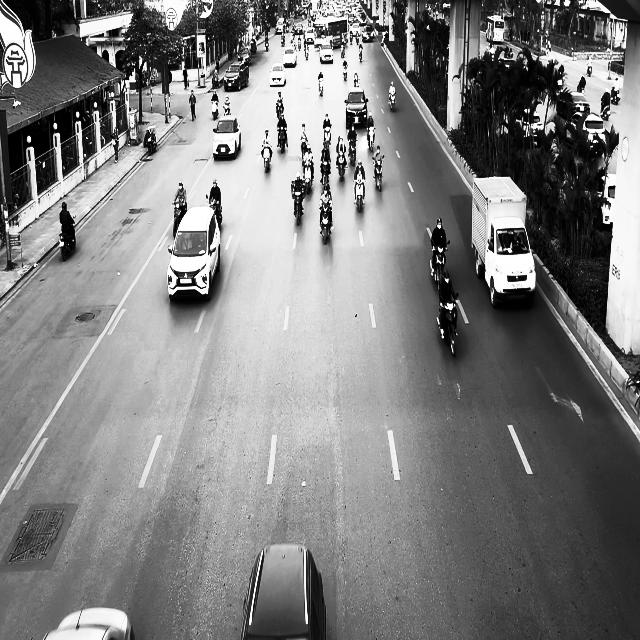bus: (486, 15, 504, 43)
car: (240, 543, 326, 639), (167, 204, 220, 301), (43, 607, 135, 639), (212, 116, 241, 160), (344, 87, 368, 129), (224, 61, 248, 91), (270, 63, 286, 86), (319, 42, 334, 63), (282, 46, 296, 67), (238, 46, 252, 65)
motorbike: (436, 293, 459, 357), (430, 240, 450, 287), (59, 215, 76, 261), (291, 182, 305, 226), (172, 200, 187, 239), (205, 194, 222, 227), (318, 205, 332, 244), (353, 178, 365, 212), (302, 159, 314, 193), (373, 157, 383, 191), (261, 145, 272, 173), (336, 150, 346, 179), (146, 126, 156, 155), (320, 160, 330, 188), (348, 136, 357, 166), (277, 125, 286, 153), (600, 96, 610, 120), (366, 126, 374, 151), (300, 136, 308, 160), (324, 125, 332, 148), (211, 98, 219, 119), (388, 92, 396, 112), (318, 76, 324, 96), (342, 60, 348, 80), (358, 44, 363, 61)
truck: (471, 175, 536, 308)
